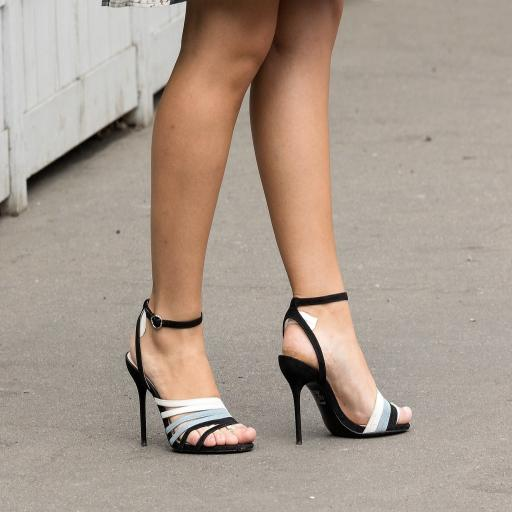heels: (278, 292, 410, 444), (125, 299, 253, 454)
